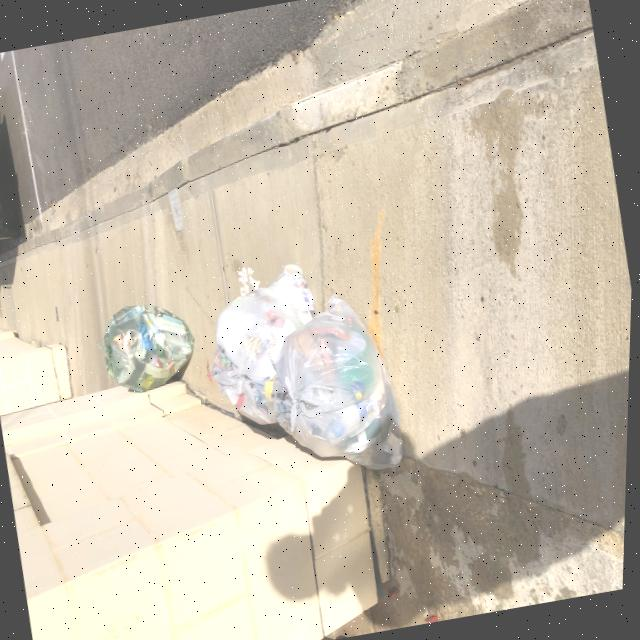Recycled Waste -Grey or Green Bag-: (256, 287, 415, 488), (195, 260, 337, 433), (91, 292, 205, 398)
